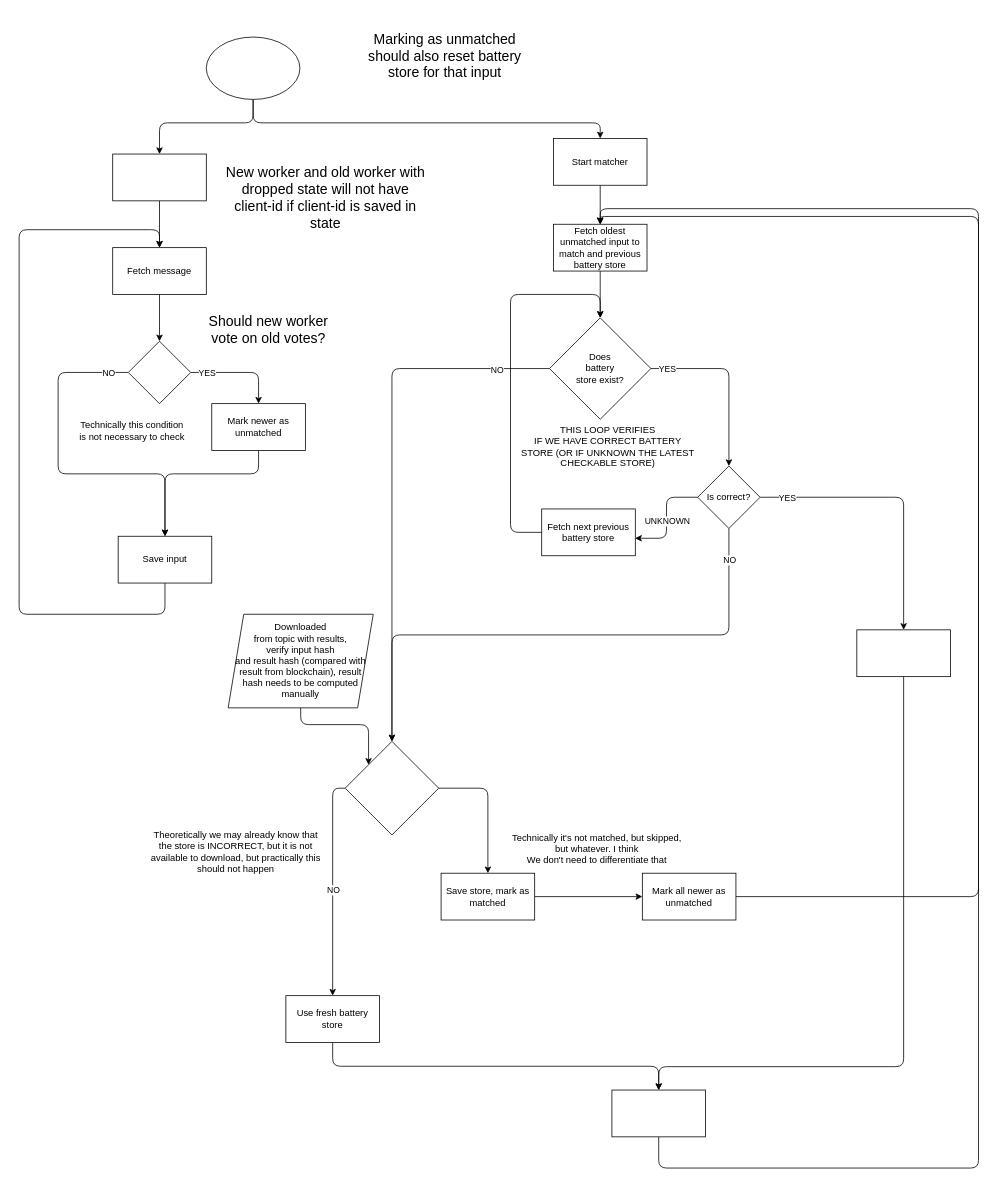
Some shapes in this 998 by 1188 pixel diagram are drawn without their labels. Each missing label, with the box of its shape:
Is older?: (128, 340, 191, 404)
Match, save store, send store to topic: (611, 1089, 706, 1137)
Start: (206, 36, 300, 99)
Start listener: (112, 153, 206, 201)
Store for this input exists?: (344, 741, 439, 835)
Use LATEST store: (856, 629, 950, 677)
